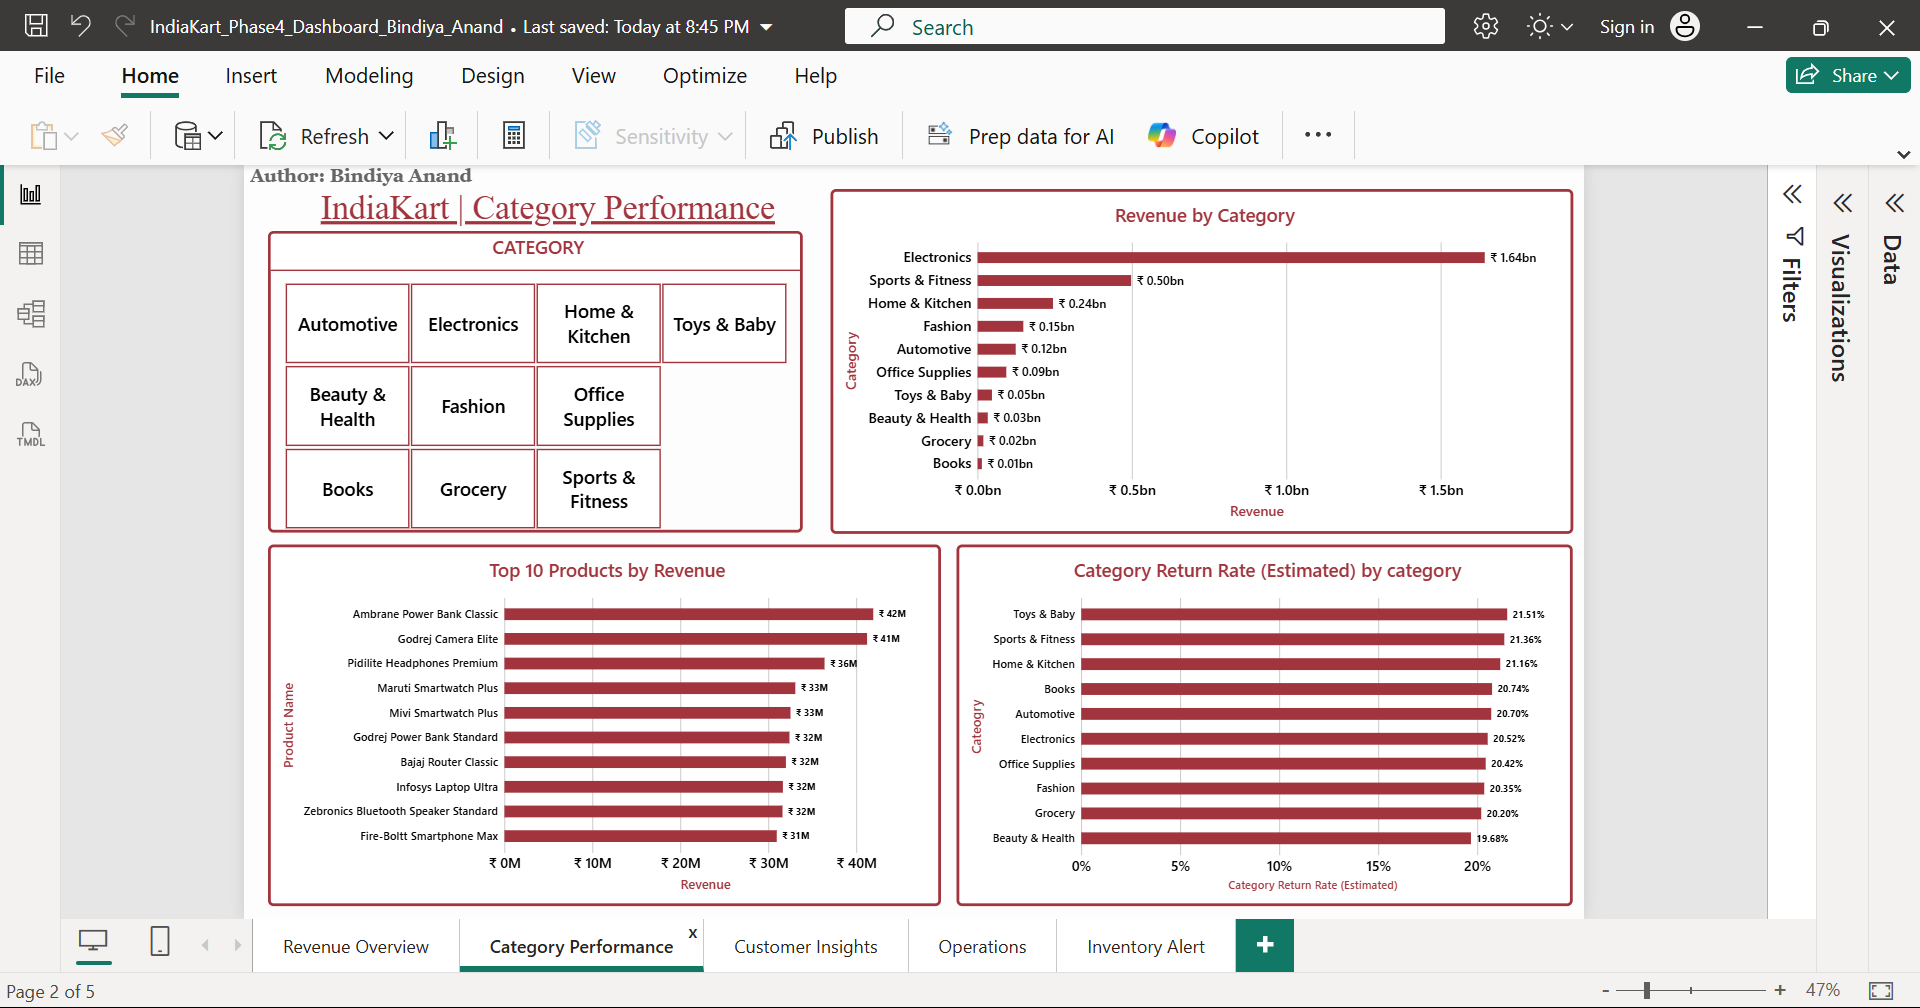

This screenshot's page, from the dashboard's own definition file:
{"tool":"powerbi","page":{"name":"Category Performance","canvas":[1920,1080],"ordinal":1},"visuals":[{"type":"textbox","box":[10,0,280,280],"z":0},{"type":"textbox","box":[97.8,33.4,672.8,62],"z":1000},{"type":"clusteredBarChart","title":"Revenue by Category","fields":{"Category":["order_items DA.category"],"Y":["Sum(order_items DA.total_price)"]},"box":[839.8,33.4,1064.1,493.9],"z":2000},{"type":"clusteredBarChart","title":"Top 10 Products by Revenue","fields":{"Category":["order_items DA.product_name"],"Y":["Sum(order_items DA.total_price)"]},"box":[33.4,544,963.9,517.7],"z":3000},{"type":"clusteredBarChart","fields":{"Category":["order_items DA.category"],"Y":["order_items DA.Category Return Rate (Estimated)"]},"box":[1021.2,544,882.8,517.7],"z":4000},{"type":"slicer","title":"CATEGORY","fields":{"Values":["order_items DA.category"]},"box":[33.4,95.4,765.9,431.9],"z":5000}]}

Visuals, with their boxes on the page's 1920x1080 design canvas (x1, y1, x2, y2). These are canvas units, not pixel positions in the 1920x1008 screenshot, which may show the page scaled, cropped or inside an application window:
textbox: rect(10, 0, 290, 280)
textbox: rect(98, 33, 771, 95)
"Revenue by Category" clusteredBarChart: rect(840, 33, 1904, 527)
"Top 10 Products by Revenue" clusteredBarChart: rect(33, 544, 997, 1062)
clusteredBarChart - order_items DA.category x order_items DA.Category Return Rate (Estimated): rect(1021, 544, 1904, 1062)
"CATEGORY" slicer: rect(33, 95, 799, 527)
